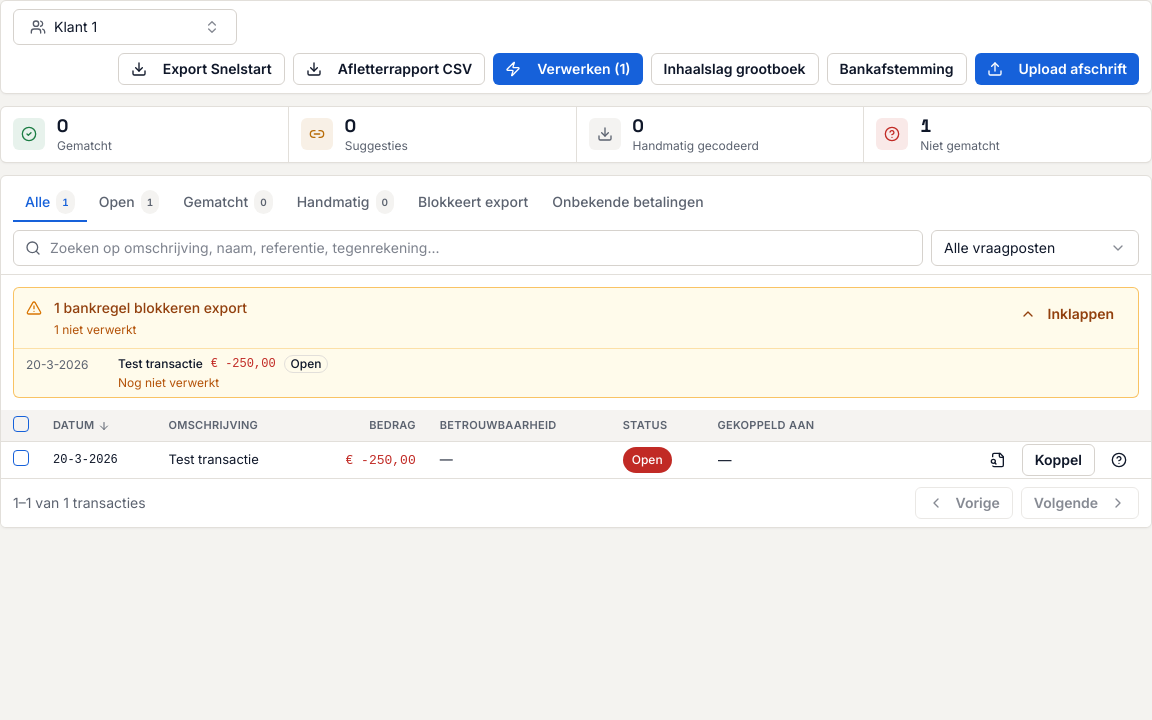
Test: Bank pagina UI › detail-Sheet toont transactiedatum en bedrag
This screenshot has width=1152, height=720.
Click the row "20-3-2026 Test transactie € -250,00 — Open — Koppel": (85,460) [1,442,1151,478]
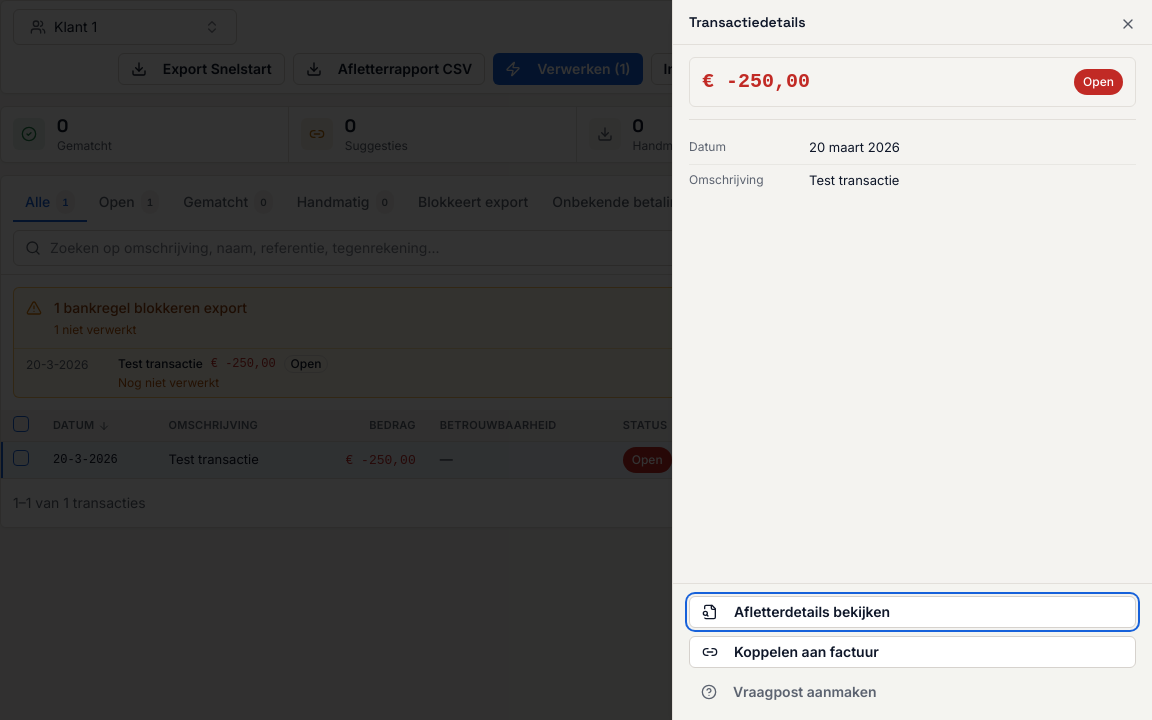
Expected: the text "€ -250,00" below "bankregel" is shown, [211,356,276,370]
Now the heading "Transactiedetails" is shown, box [689,13,806,31]
